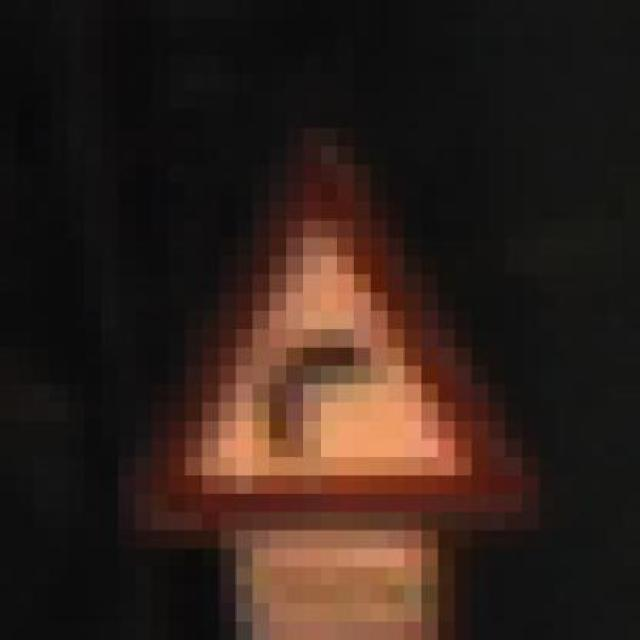Dangerous Rright Curve Ahead: (118, 128, 556, 530)
